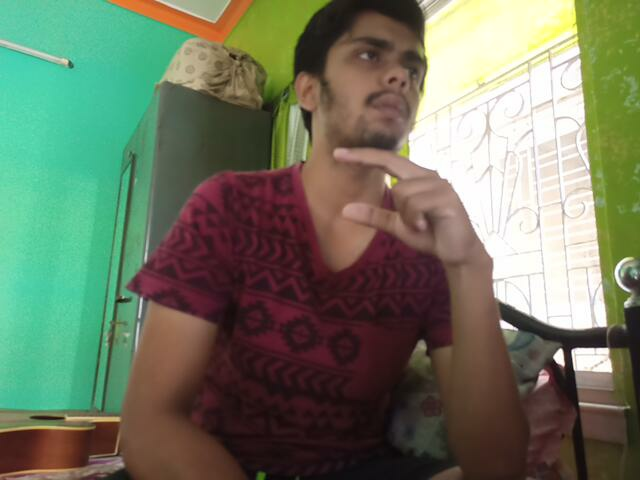No: (325, 120, 498, 274)
